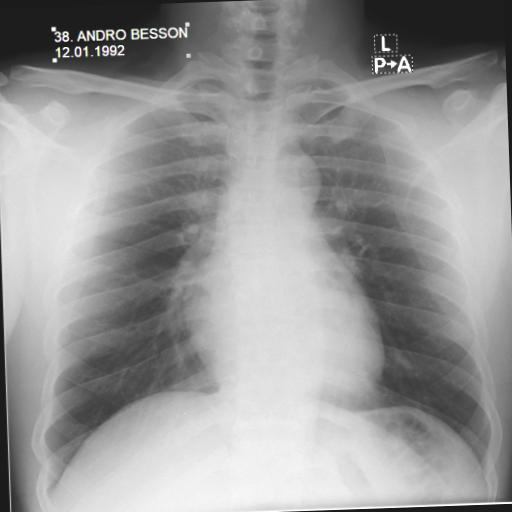normal: (14, 32, 508, 506)
